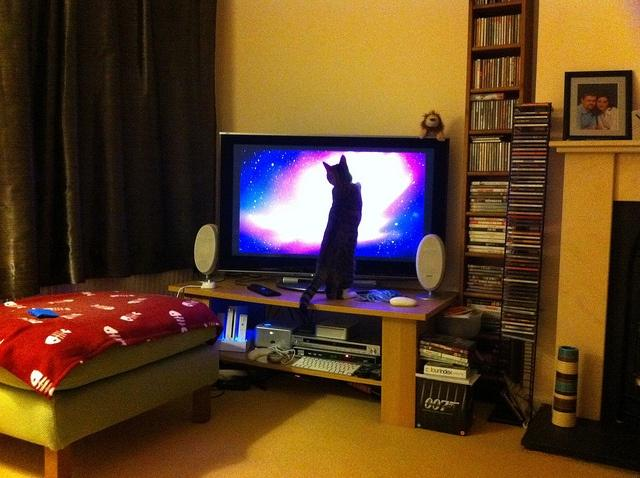AIO PC-Monitor-TV: (217, 130, 449, 291)
